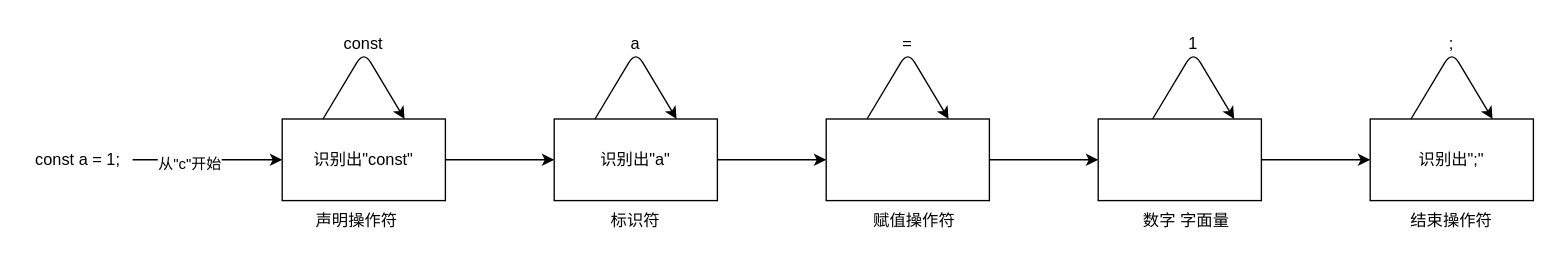
Image size: 1557x264. Some labels were removed from this diagram. The centre of each missing label's shape, as x and y in pixels:
识别出"1": (x=1179, y=159)
识别出"=": (x=907, y=159)
